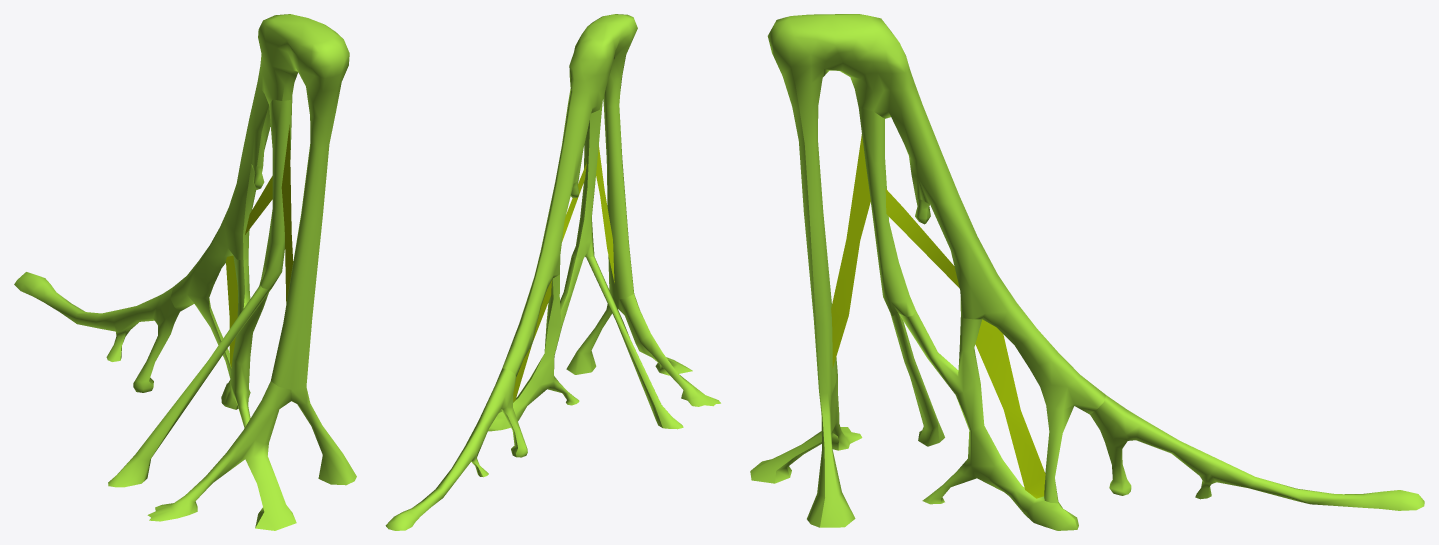
The model's file is env_garbage_slimethread02.fbx.
The picture shows the model from 3 angles, left to right: view 1: azimuth 30°, elevation 25°; view 2: azimuth 150°, elevation 25°; view 3: azimuth 270°, elevation 25°; orthographic projection. The views are drawn at different scales.
Parts seen in each view (by area): view 1: garbage_slimethread.001, Plane.001; view 2: garbage_slimethread.001, Plane.001; view 3: garbage_slimethread.001, Plane.001.
Boxes of the visible parts, left/top/right/bottom form: garbage_slimethread.001: left=14, top=14, right=356, bottom=530; Plane.001: left=226, top=125, right=293, bottom=368; garbage_slimethread.001: left=385, top=14, right=720, bottom=530; Plane.001: left=513, top=145, right=614, bottom=402; garbage_slimethread.001: left=750, top=14, right=1424, bottom=530; Plane.001: left=831, top=134, right=1045, bottom=498.
Size of the model in its own units: 17.91 by 38.34 by 47.84.
